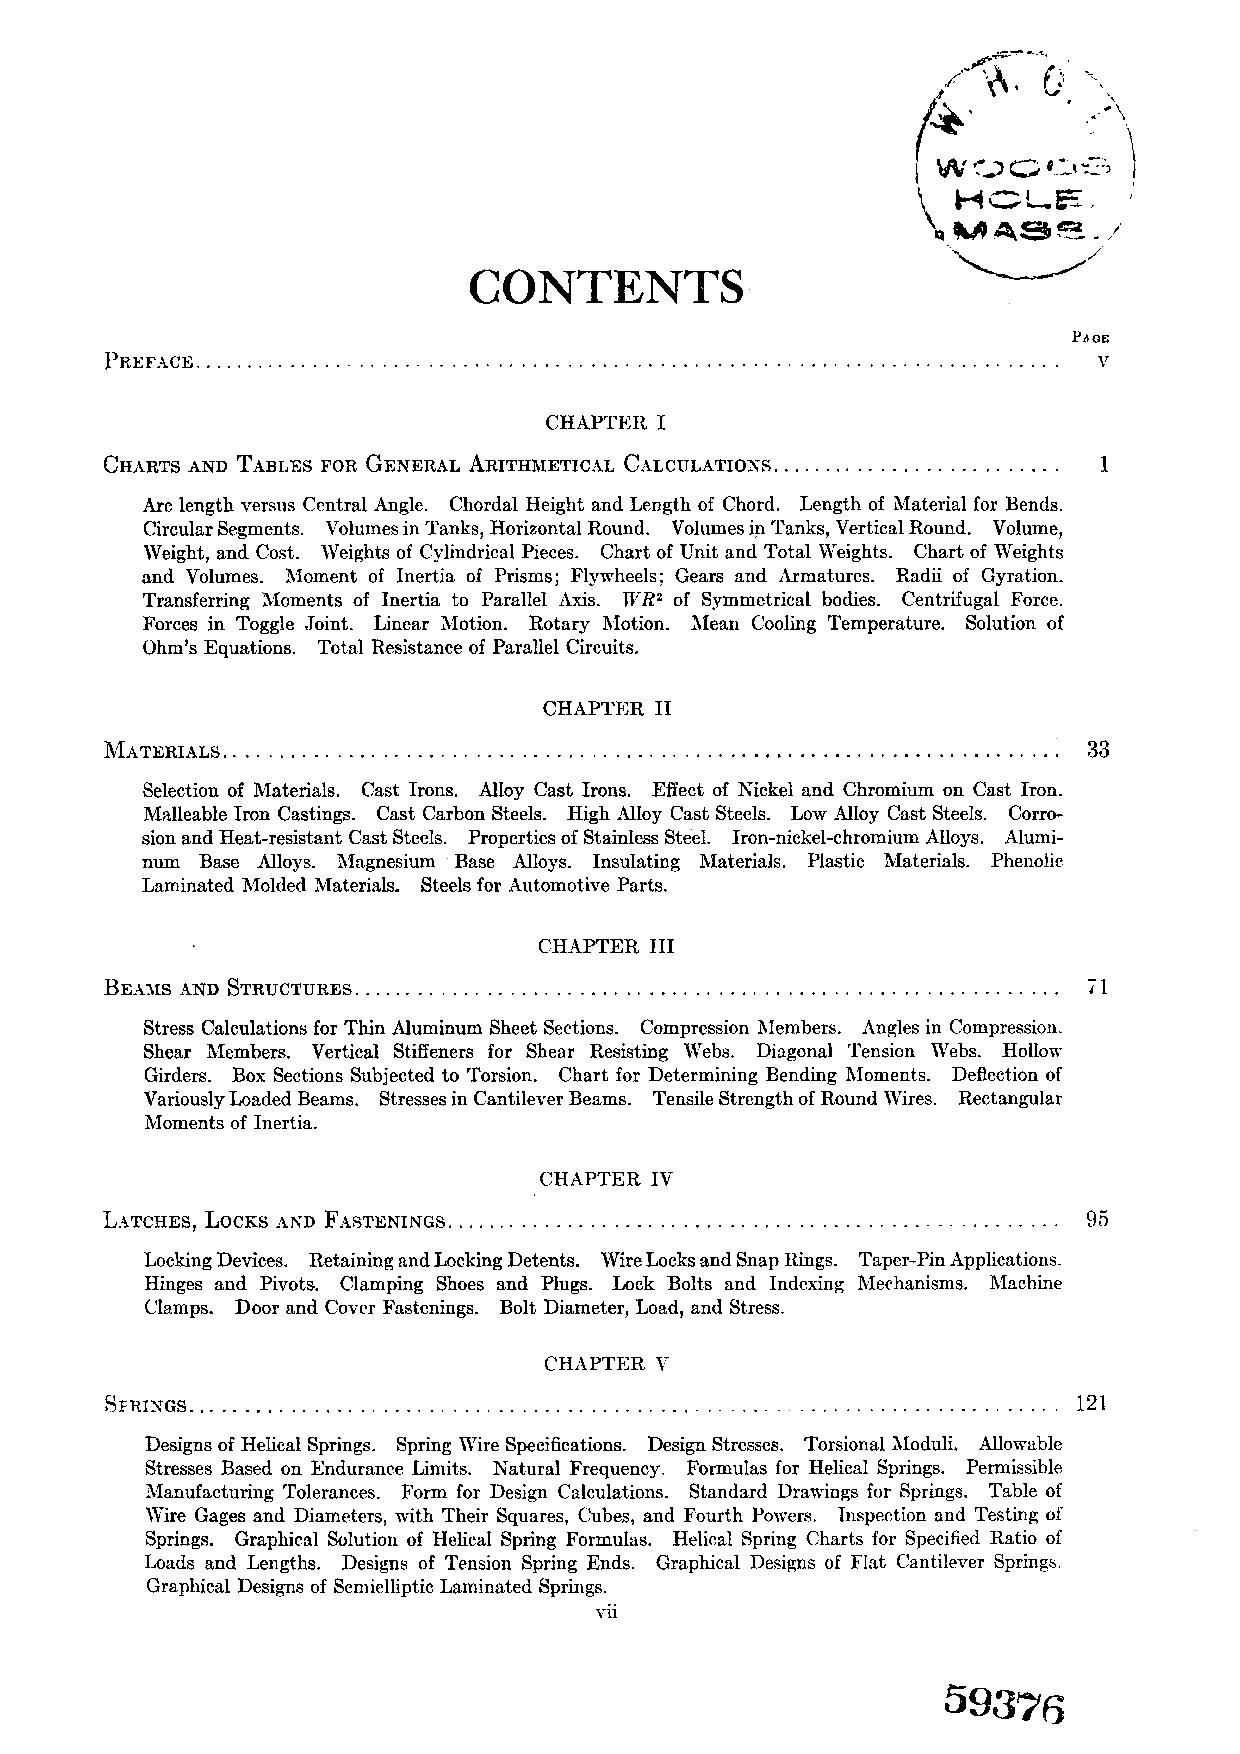TOC_chapter: (101, 1347, 1066, 1600), (102, 411, 1066, 662), (101, 931, 1064, 1135), (97, 697, 1064, 896), (103, 1162, 1066, 1321), (102, 344, 193, 370)
TOC_pagenumber: (1080, 970, 1110, 996), (1075, 1392, 1107, 1414), (1083, 1205, 1110, 1231), (1084, 734, 1108, 760), (1096, 450, 1113, 472), (1095, 350, 1113, 365)
chapter: (462, 264, 745, 307)
content_pagenumber: (592, 1600, 621, 1621)
